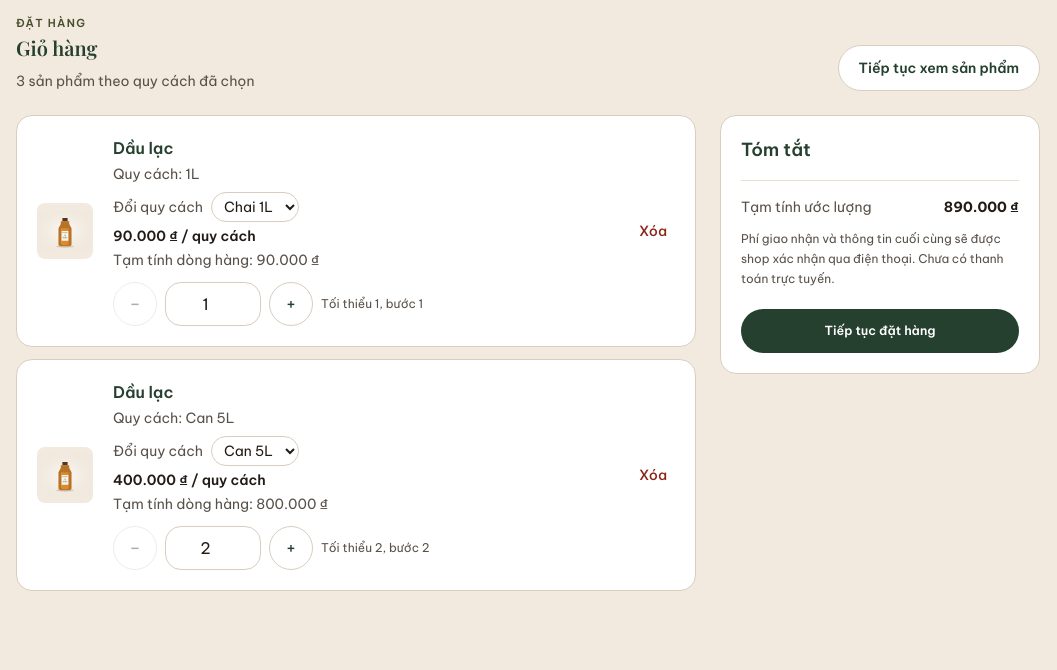
Scenario: rejects a duplicate target and retains both lines, quantities and totals
Select "Can 5L" in the dropdown labelled "Đổi quy cách" below "1L" at (255, 206), box [211,192,299,222]
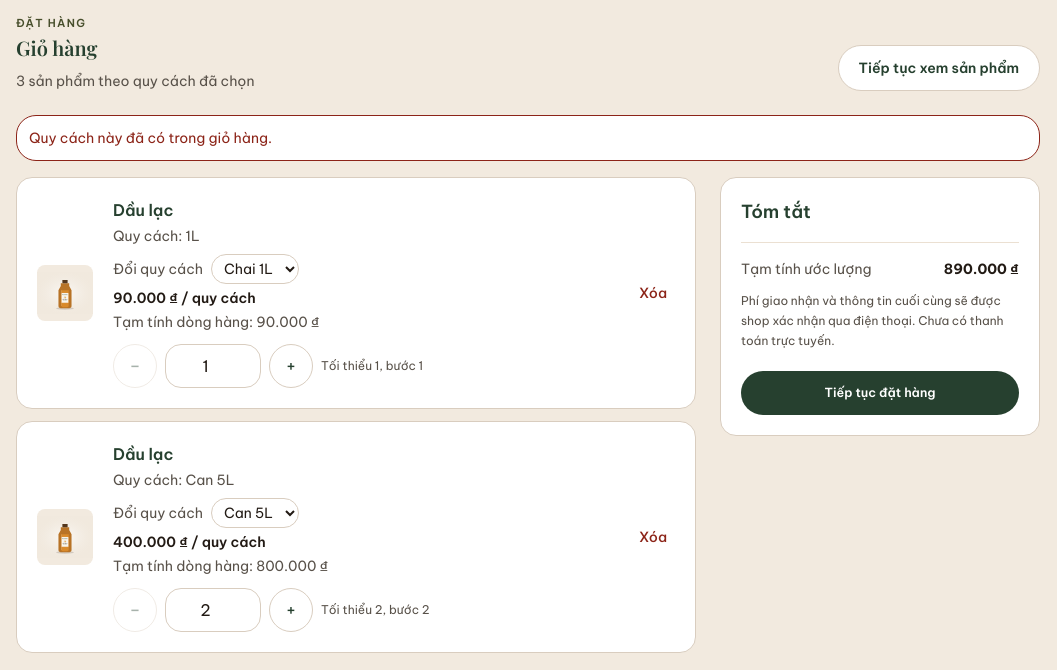
Expected: the text "890.000 ₫" is shown, [944,258,1019,278]
Expected: the message shows "Quy cách này đã có trong giỏ hàng", [29,128,272,146]
